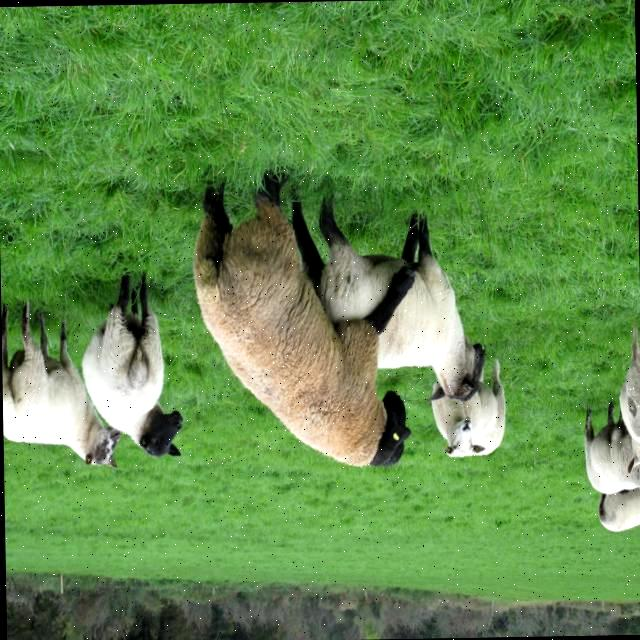sheep: (193, 169, 410, 466), (289, 194, 485, 400), (2, 300, 120, 467), (81, 273, 181, 457), (432, 359, 505, 457), (584, 401, 640, 492), (619, 326, 640, 473), (597, 487, 640, 531)
